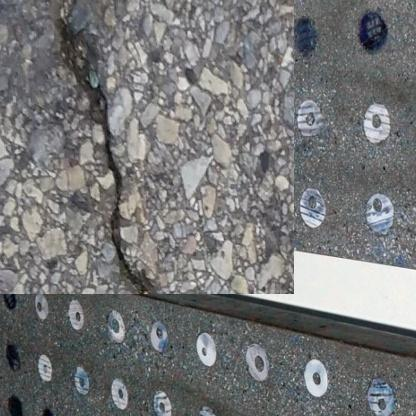Cracks: (50, 0, 146, 272)
